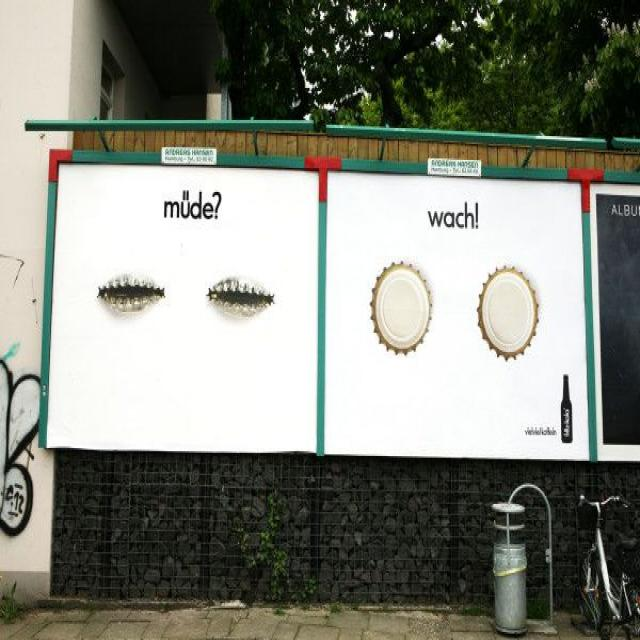Werbetafel frei: (38, 147, 323, 460), (321, 152, 594, 463), (590, 160, 640, 472)
